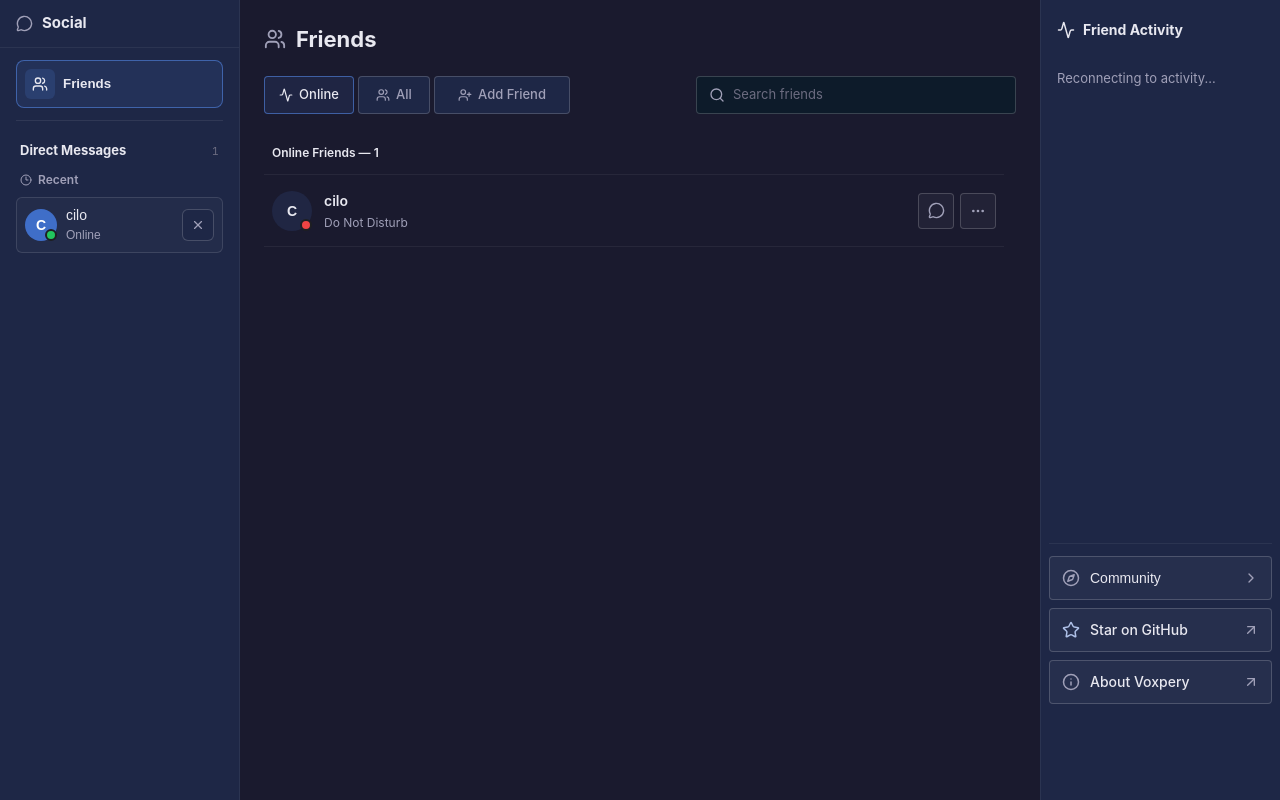
Test: HomePage friends list › keeps the DM context menu compact and removes the redundant open action
This screenshot has width=1280, height=800.
Step 1. Right-click the element named "Open DM with cilo" → (120, 224), box [16,196,223,252]
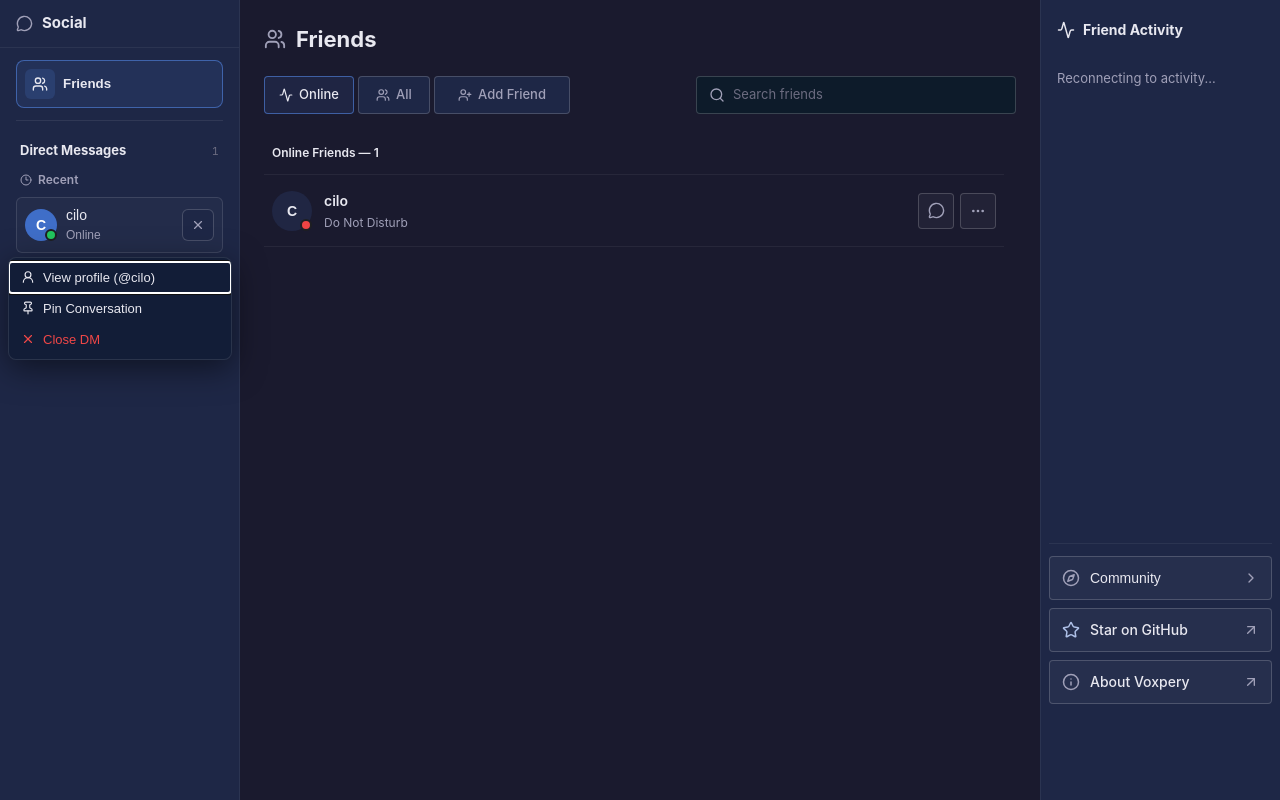
Now the menu item "Pin Conversation" is shown, box [9,292,231,324]
Now the menu item "Close DM" is shown, box [9,324,231,354]
